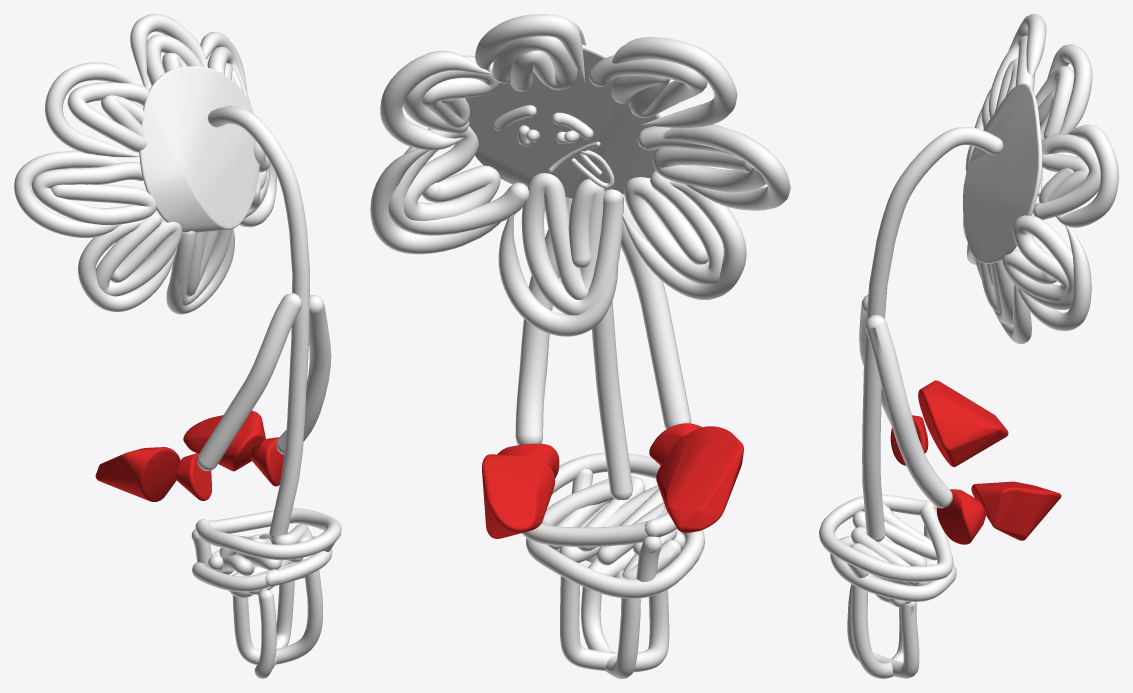
The model's file is planta.glb.
3 renders of one model, left to right at view 1: azimuth 30°, elevation 25°; view 2: azimuth 150°, elevation 25°; view 3: azimuth 270°, elevation 25°, orthographic. The views are drawn at different scales.
Visible parts, largest first — view 1: planta; view 2: planta; view 3: planta.
Part boxes in pixels (left/top/right/bottom): planta: left=14, top=14, right=341, bottom=678; planta: left=370, top=14, right=790, bottom=678; planta: left=819, top=14, right=1118, bottom=678.
Size of the model in its own units: 0.9395 by 1.81 by 0.8072.
1 material, 1 textured.
